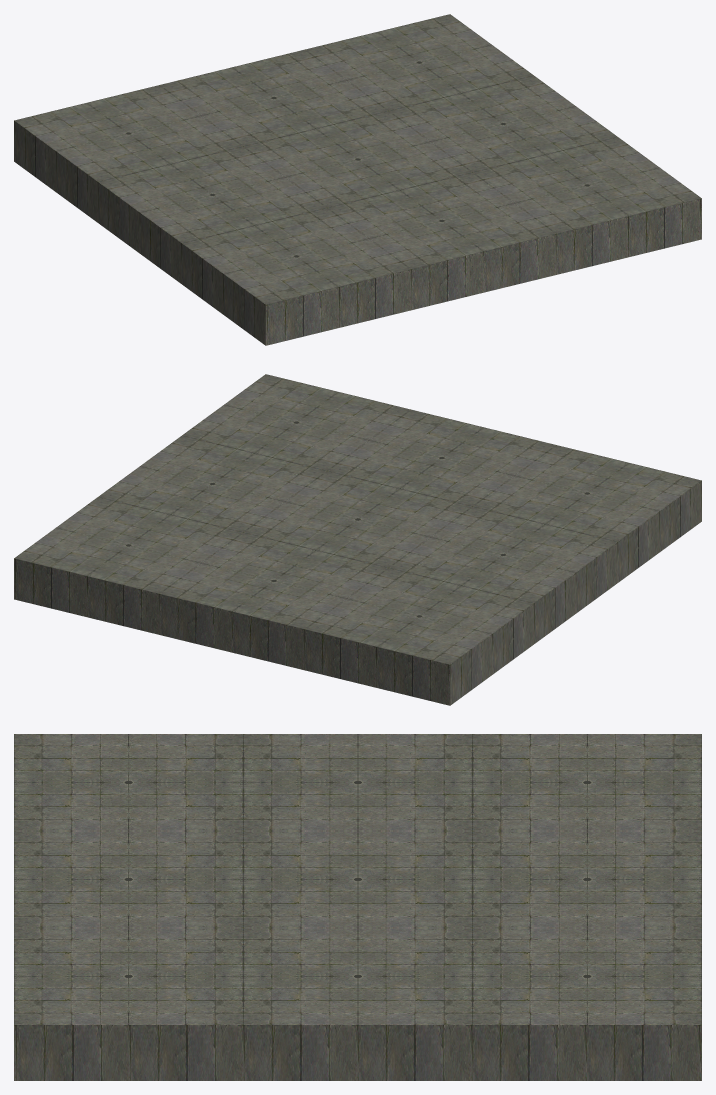
The model's file is fb_zhenlongqiju_qipan.FBX.
3 renders of one model, top to bottom at view 1: azimuth 30°, elevation 25°; view 2: azimuth 150°, elevation 25°; view 3: azimuth 270°, elevation 25°, orthographic. The views are drawn at different scales.
Visible parts, largest first — view 1: fb_zhenlongqiju_qipan; view 2: fb_zhenlongqiju_qipan; view 3: fb_zhenlongqiju_qipan.
Boxes of the visible parts, x1=… form: fb_zhenlongqiju_qipan: x1=14, y1=14, x2=701, y2=345; fb_zhenlongqiju_qipan: x1=14, y1=374, x2=701, y2=705; fb_zhenlongqiju_qipan: x1=14, y1=734, x2=701, y2=1080.
Bounding box in the file's own units: 2560 × 230 × 2560.
